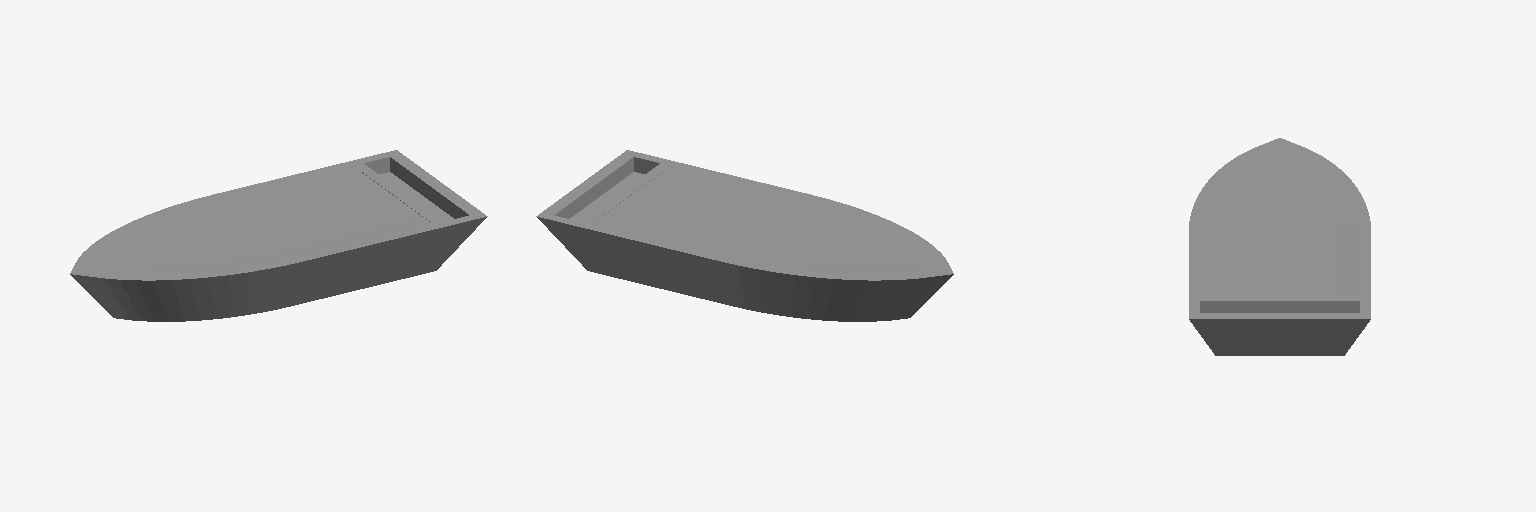
Rendered from barco.obj.
3 views of the same model, side by side, from view 1: azimuth 30°, elevation 25°; view 2: azimuth 150°, elevation 25°; view 3: azimuth 270°, elevation 25° (orthographic).
Parts seen in each view (by area): view 1: Barco; view 2: Barco; view 3: Barco.
Part boxes in pixels (x1,y1,x2,y2): Barco: (70, 150, 487, 321); Barco: (536, 150, 953, 321); Barco: (1189, 138, 1370, 355).
Bounding box in the file's own units: 6.33 × 0.89 × 2.68.